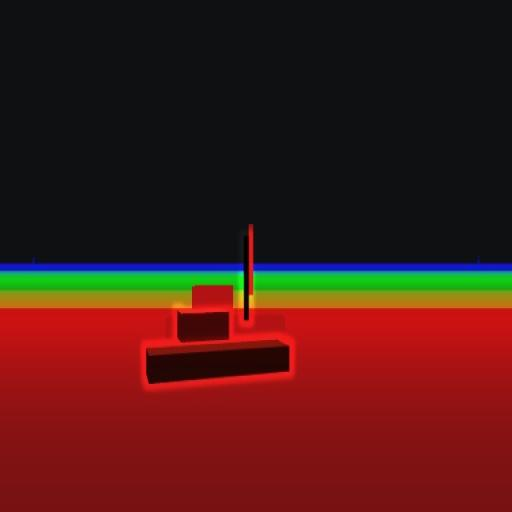fishing_boat: (143, 244, 293, 386)
